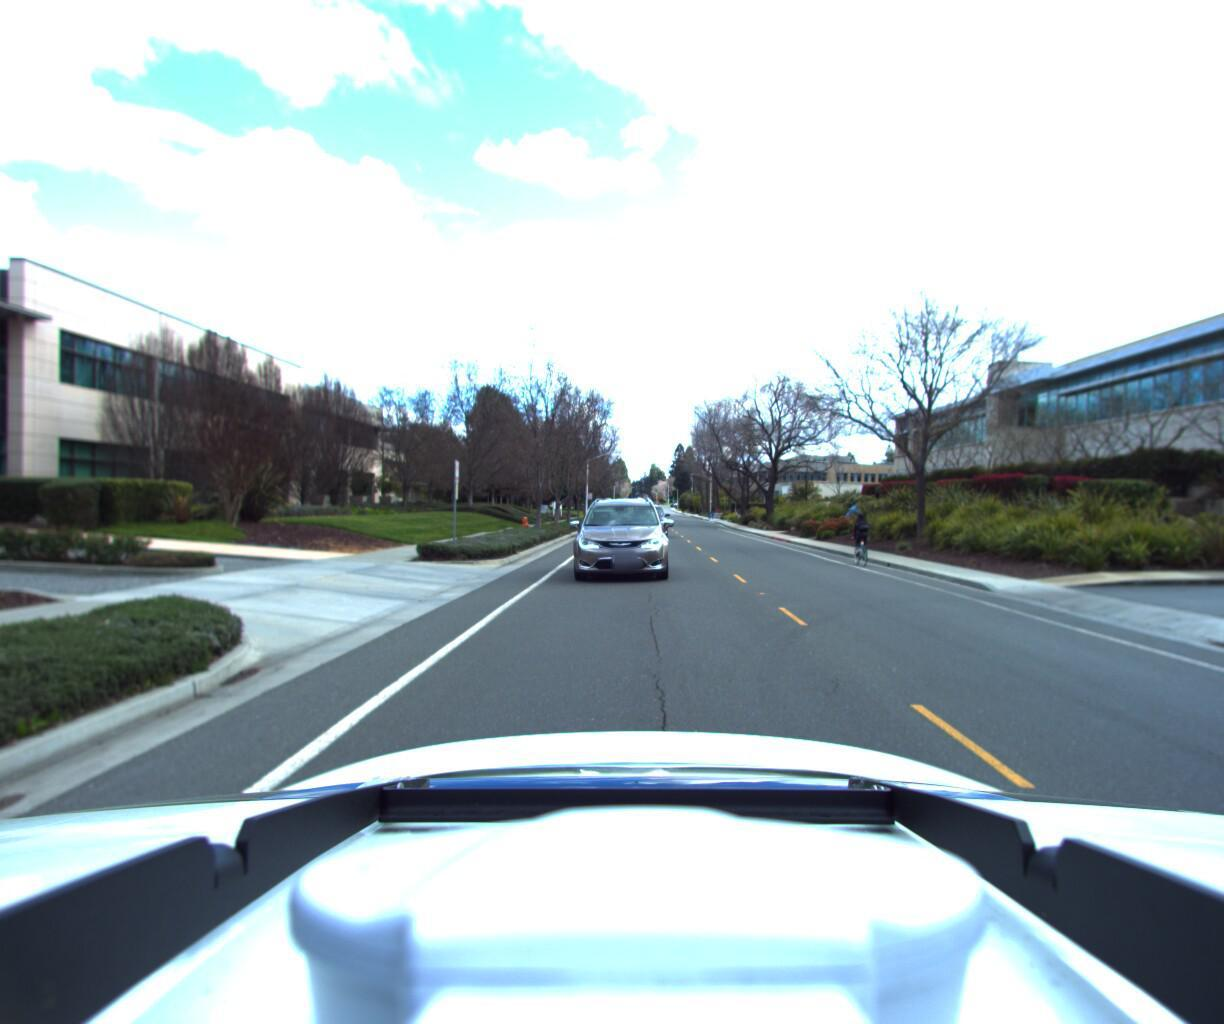bicycle: (832, 511, 875, 573)
car: (561, 498, 668, 596)
